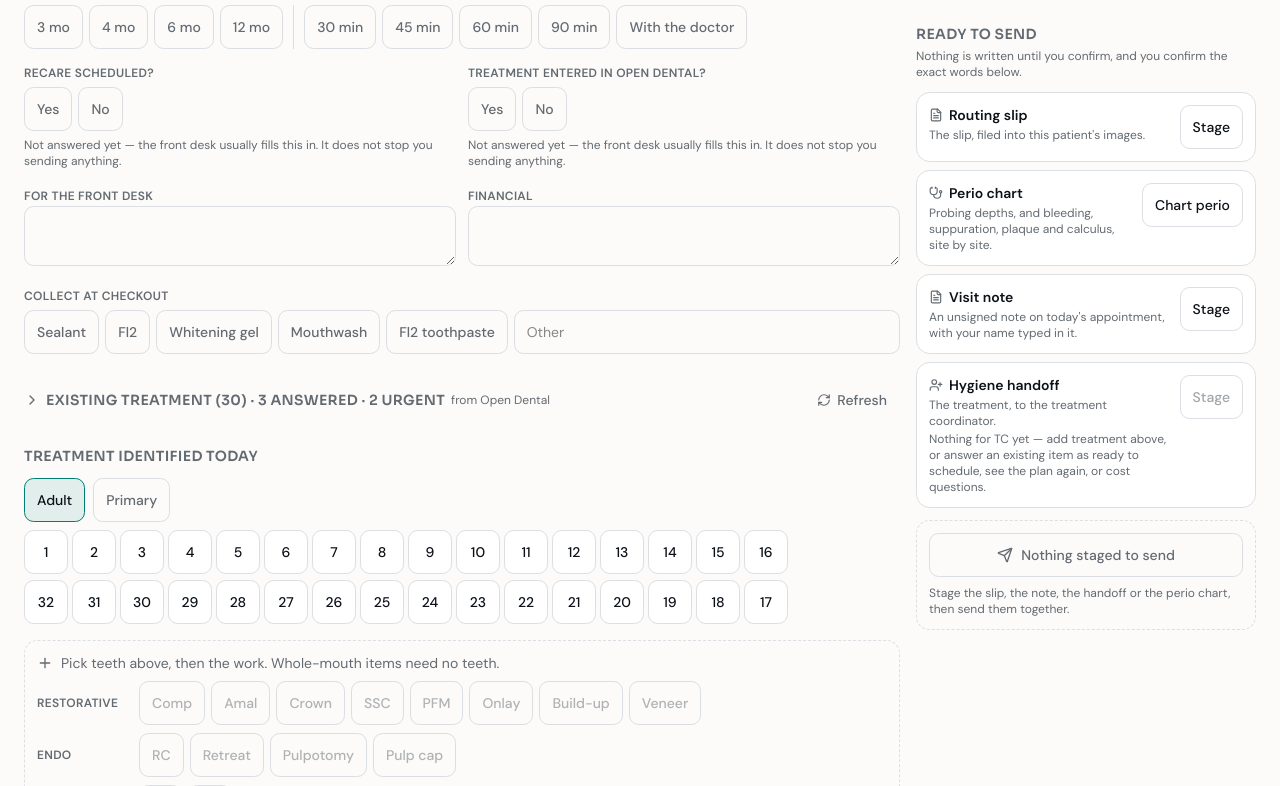
Test case: the 30-item plan › starts collapsed, counts everything, and opens to the default view
(page scrolled)
Expected: the heading with test id "hyg-existing-tx-heading" reads "Existing treatment (30) · 3 answered · 2 urgent", [46,390,445,410]
Click the button with test id "hyg-existing-tx-collapse" at (287, 400), box [24,378,550,422]
(page scrolled)
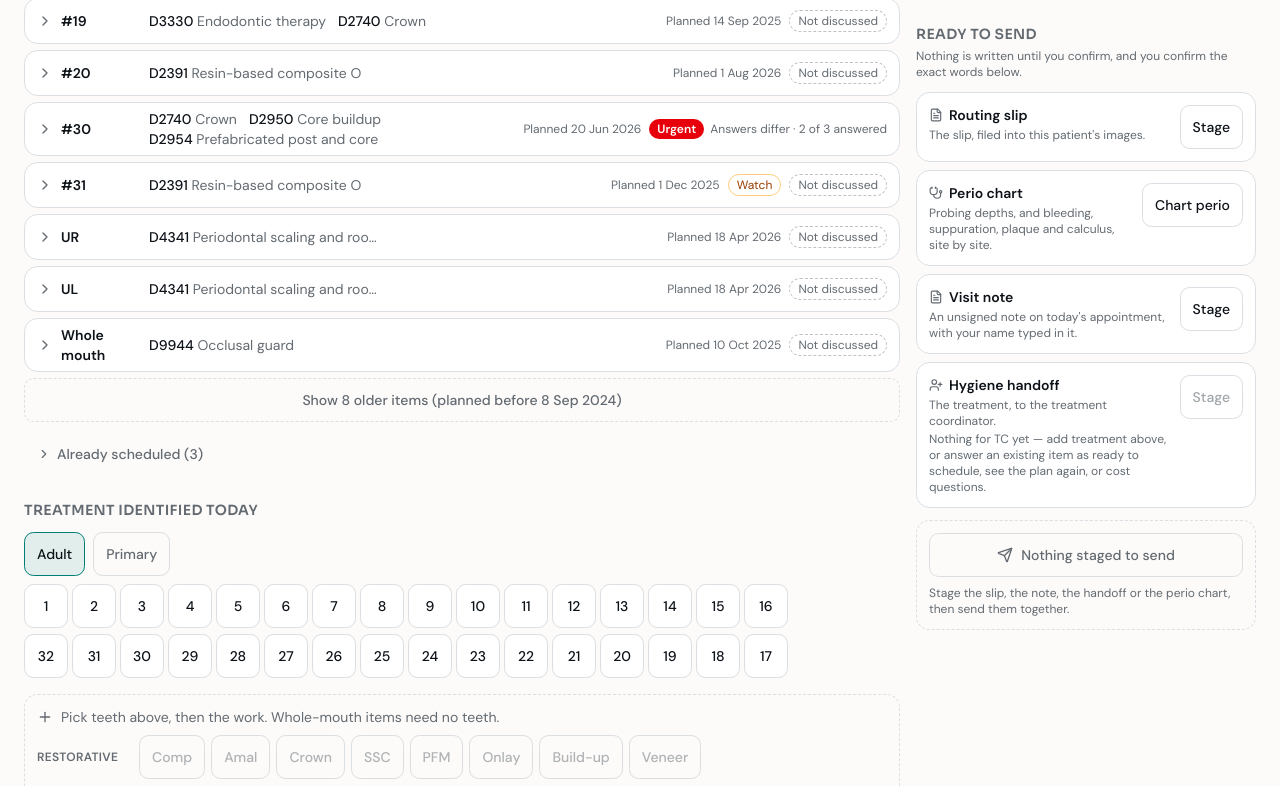
Result: the element with test id "hyg-existing-tx-summary-30" shows "Answers differ" at [710,121,799,137]
Result: the button with test id "hyg-existing-tx-show-older" reads "Show 8 older items (planned before 8 Sep 2024)"
Result: the button with test id "hyg-existing-tx-show-scheduled" reads "Already scheduled (3)" at [24,432,900,476]
Click the button with test id "hyg-existing-tx-show-older" at (462, 400), box [24,378,900,422]
(page scrolled)
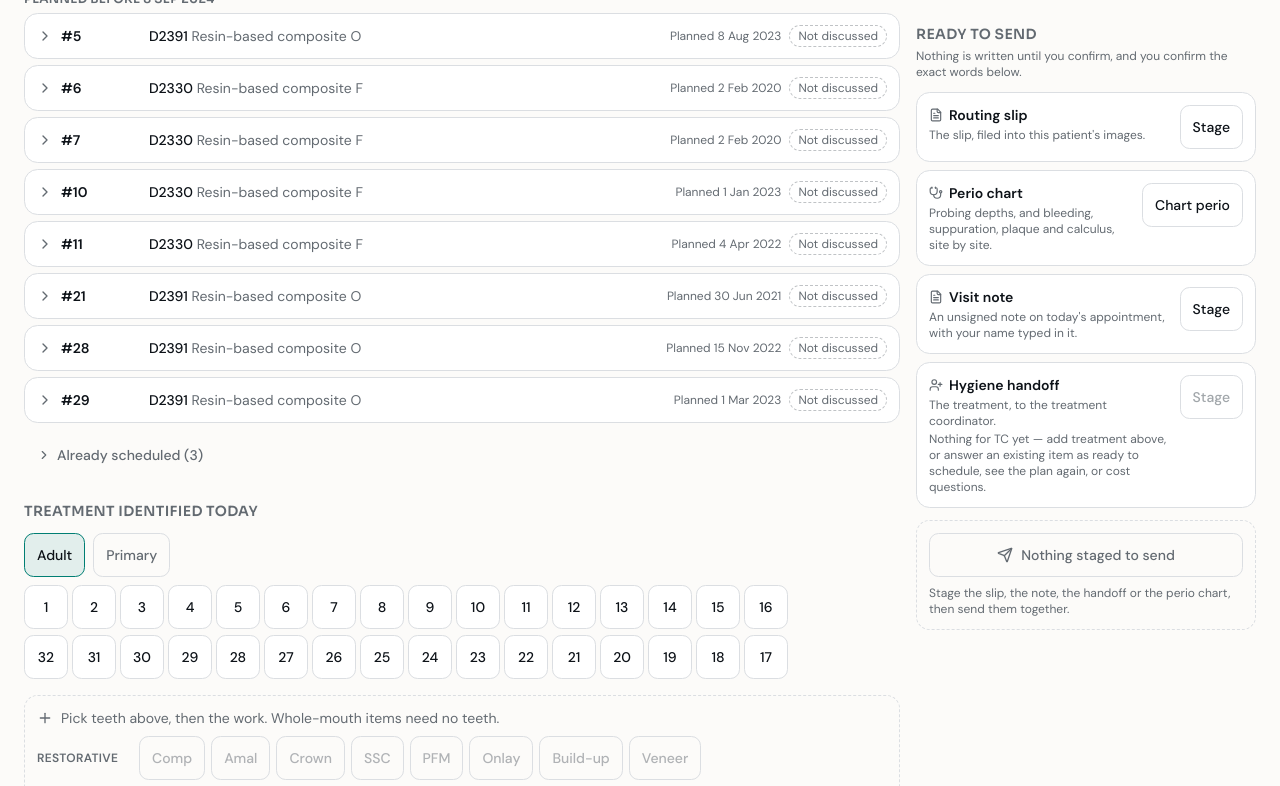
Result: the element with test id "hyg-existing-tx-group-older-29" is shown at [24,377,900,423]
